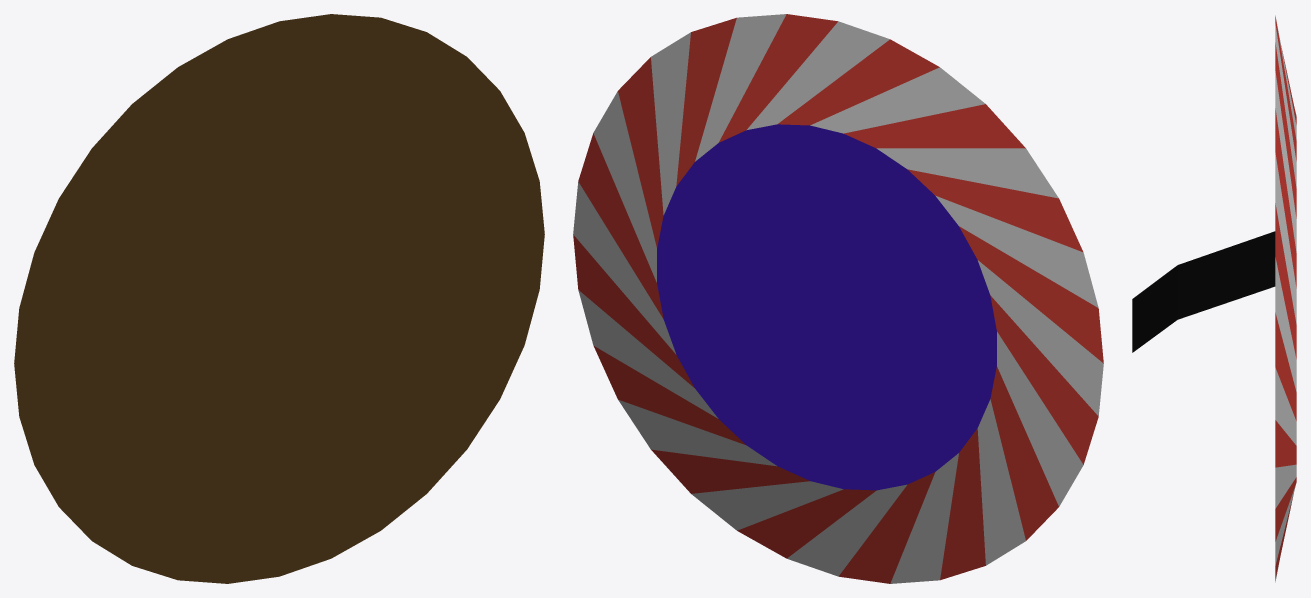
Rendered from 盾アメリカ風.fbx.
3 renders of one model, left to right at view 1: azimuth 30°, elevation 25°; view 2: azimuth 150°, elevation 25°; view 3: azimuth 270°, elevation 25°, orthographic. The views are drawn at different scales.
Visible parts, largest first — view 1: 円; view 2: 円; view 3: 円.
Part boxes in pixels (<box>): 円: <box>14,14,544,583</box>; 円: <box>573,14,1103,583</box>; 円: <box>1132,15,1296,582</box>.
Size of the model in its own units: 2 by 2 by 0.5756.
